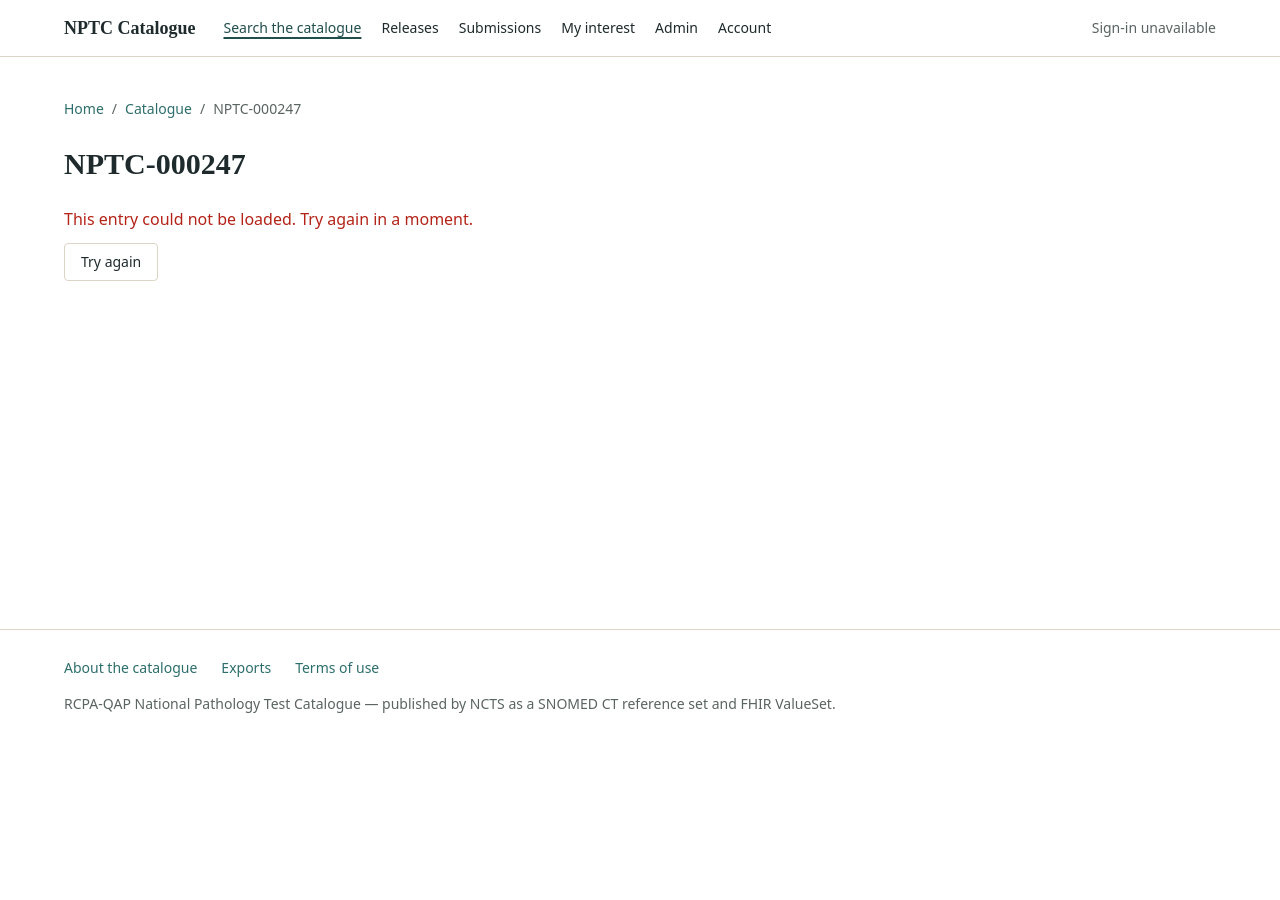
Test: an entry that cannot be shown › offers a retry when the entry fails to load, and recovers
Expected: the text "This entry could not be loaded. Try again in a moment." is shown, [64, 206, 473, 230]
Click the button "Try again" at {"x": 111, "y": 262}, box [64, 242, 158, 280]
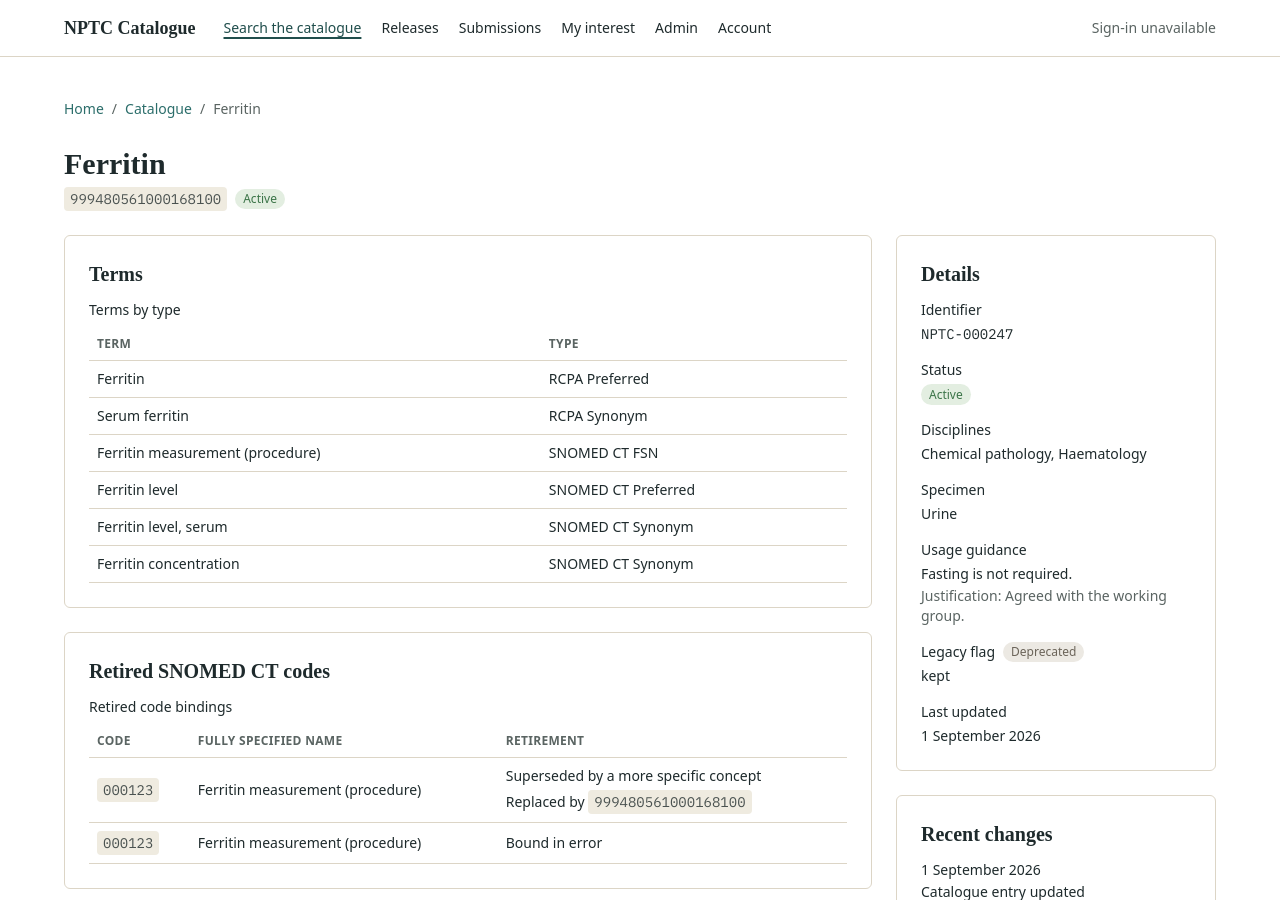
Result: the heading "Ferritin" is shown at [64, 147, 166, 180]
